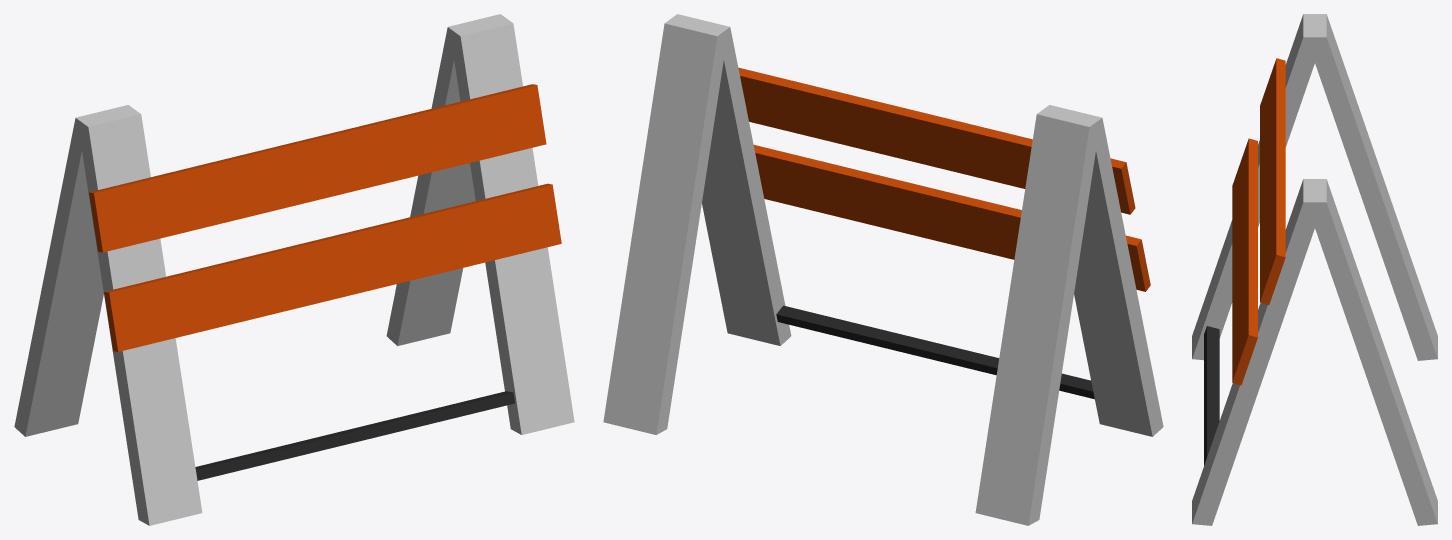
The model's file is Barrièere.fbx.
3 renders of one model, left to right at view 1: azimuth 30°, elevation 25°; view 2: azimuth 150°, elevation 25°; view 3: azimuth 270°, elevation 25°, orthographic. The views are drawn at different scales.
Visible parts, largest first — view 1: Box002; view 2: Box002; view 3: Box002.
Boxes of the visible parts, x1,y1,x2,y2 form: Box002: (14, 14, 574, 525); Box002: (603, 14, 1163, 525); Box002: (1192, 14, 1437, 525).
Bounding box in the file's own units: 145 × 111 × 76.41.
